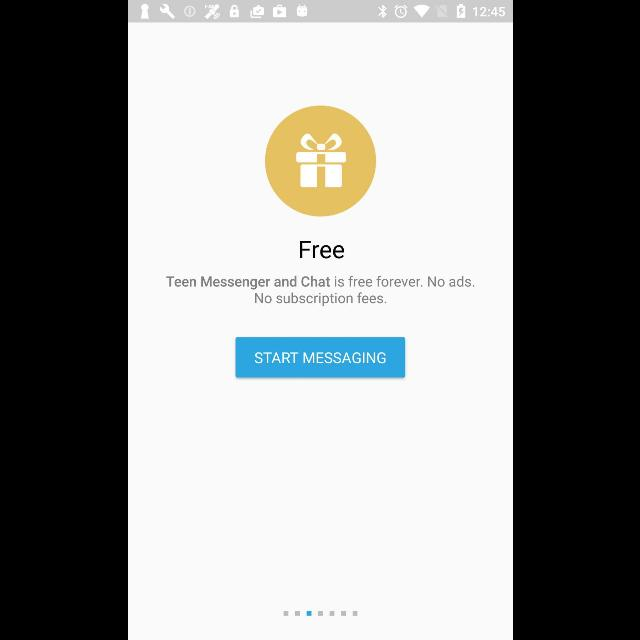icon: (264, 106, 376, 217)
pageindicator: (282, 610, 358, 616)
text: (166, 276, 474, 306), (298, 240, 344, 260)
textbutton: (235, 337, 405, 378)
uppertaskbar: (128, 1, 512, 23)
